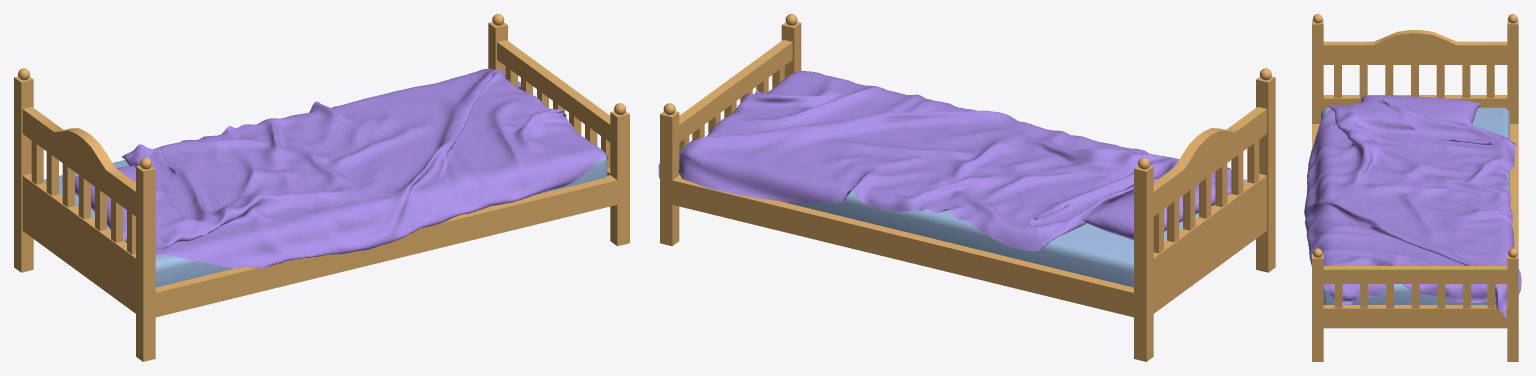
File: bed.fbx
3 renders of one model, left to right at view 1: azimuth 30°, elevation 25°; view 2: azimuth 150°, elevation 25°; view 3: azimuth 270°, elevation 25°, orthographic. The views are drawn at different scales.
Parts seen in each view (by area): view 1: Lowgo, Cube.017, Cube.010; view 2: Lowgo, Cube.017, Cube.010; view 3: Lowgo, Cube.017, Cube.010.
Boxes of the visible parts, x1=… form: Lowgo: x1=62, y1=68, x2=608, y2=268; Cube.017: x1=14, y1=14, x2=629, y2=361; Cube.010: x1=43, y1=156, x2=607, y2=287; Lowgo: x1=658, y1=70, x2=1231, y2=251; Cube.017: x1=660, y1=14, x2=1275, y2=361; Cube.010: x1=782, y1=179, x2=1247, y2=287; Lowgo: x1=1304, y1=95, x2=1521, y2=318; Cube.017: x1=1312, y1=14, x2=1518, y2=361; Cube.010: x1=1321, y1=107, x2=1509, y2=304.
Size of the model in its own units: 207 by 79.13 by 97.46.
